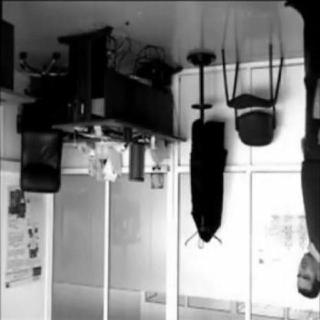other: (310, 78, 318, 126)
